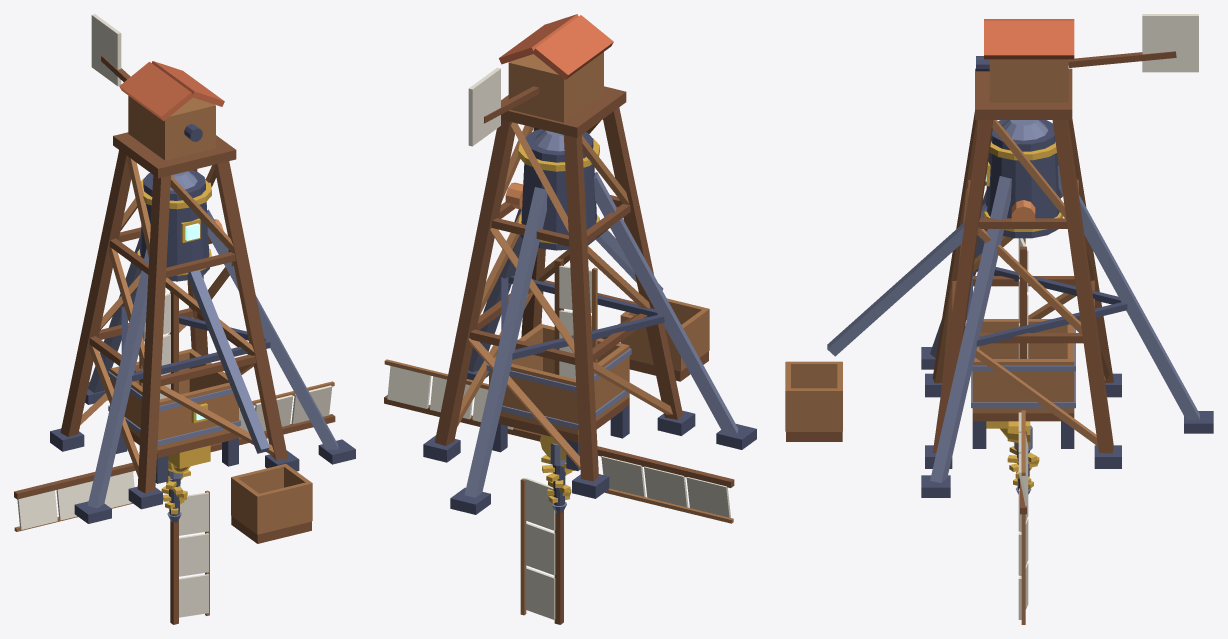
The model's file is power.glb.
The picture shows the model from 3 angles, left to right: view 1: azimuth 30°, elevation 25°; view 2: azimuth 150°, elevation 25°; view 3: azimuth 270°, elevation 25°; orthographic projection. The views are drawn at different scales.
Parts seen in each view (by area): view 1: Windmill, Drill, WindmillRotor, Hopper, DrillBit; view 2: Windmill, Drill, WindmillRotor, Hopper, DrillBit; view 3: Windmill, Drill, Hopper, WindmillRotor, DrillBit.
Boxes of the visible parts, x1,y1,x2,y2 form: Windmill: (50,14,299,509); Drill: (74,170,355,543); WindmillRotor: (14,291,335,624); Hopper: (108,348,240,483); DrillBit: (161,469,190,522); Windmill: (423,14,695,498); Drill: (450,129,756,514); WindmillRotor: (384,258,734,624); Hopper: (486,323,631,470); DrillBit: (541,443,574,513); Windmill: (925,14,1198,468); Drill: (785,120,1213,497); Hopper: (971,319,1075,448); WindmillRotor: (1000,238,1030,624); DrillBit: (1007,425,1039,494).
Bounding box in the file's own units: 3.5 × 5.78 × 3.78.
